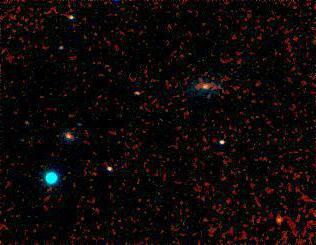star: (266, 205, 296, 235)
